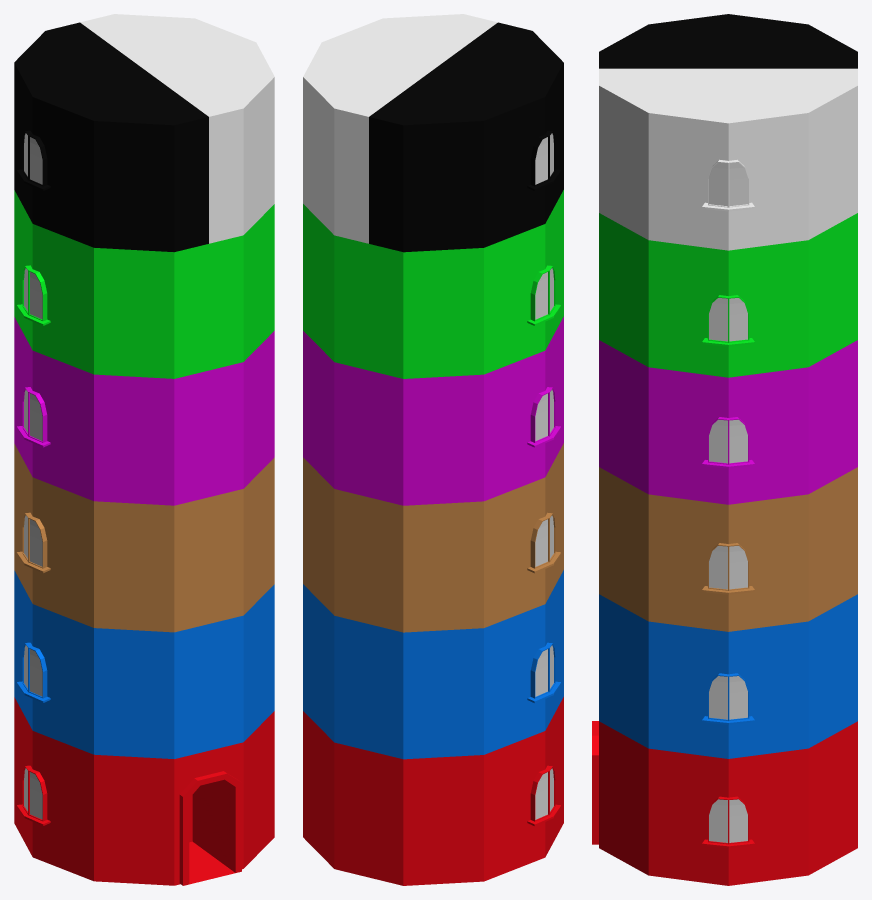
The model's file is Torre Inteira.fbx.
3 views of the same model, side by side, from view 1: azimuth 30°, elevation 25°; view 2: azimuth 150°, elevation 25°; view 3: azimuth 270°, elevation 25° (orthographic).
Parts seen in each view (by area): view 1: Cylinder; view 2: Cylinder; view 3: Cylinder.
Part boxes in pixels (x1,y1,x2,y2): Cylinder: (14,14,274,885); Cylinder: (303,14,563,885); Cylinder: (592,14,857,885).
Bounding box in the file's own units: 4296 × 13000 × 4109.
